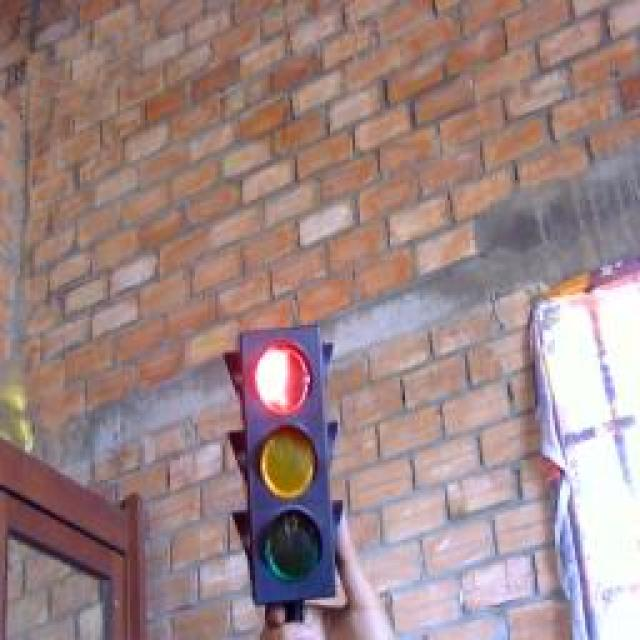-: (250, 336, 320, 424)
